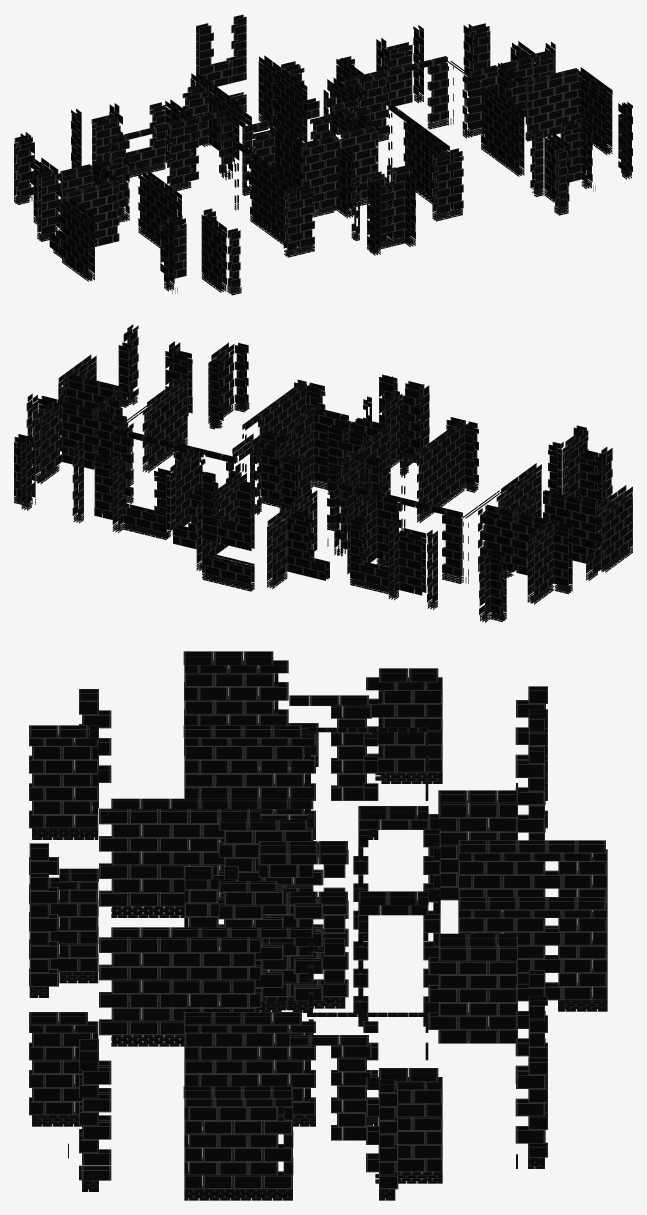
The model's file is edges.glb.
The picture shows the model from 3 angles, top to bottom: view 1: azimuth 30°, elevation 25°; view 2: azimuth 150°, elevation 25°; view 3: azimuth 270°, elevation 25°; orthographic projection. The views are drawn at different scales.
Visible parts, largest first — view 1: E_F02, E_F03; view 2: E_F02, E_F03; view 3: E_F02.
Boxes of the visible parts, left/top/right/bottom form: E_F02: left=14, top=23, right=632, bottom=295; E_F03: left=196, top=14, right=246, bottom=51; E_F02: left=14, top=324, right=632, bottom=622; E_F03: left=202, top=471, right=254, bottom=510; E_F02: left=29, top=651, right=607, bottom=1200.
Bounding box in the file's own units: 20.8 × 3.89 × 12.4.
1 material, 1 textured.
